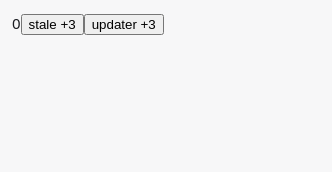
Test: useState functional updates › value updates collapse to one; updater functions stack
Click the button "stale +3" at (52, 24), box [21,14,84,35]
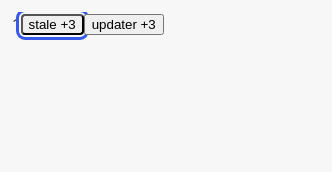
Expected: the text named "count" reads "1", [12,13,21,33]
Click the button "updater +3" at (124, 24), box [84,14,164,35]
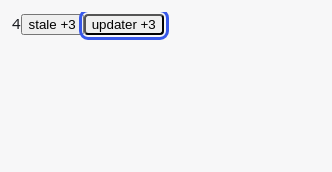
Expected: the text named "count" reads "4", [12,13,21,33]
